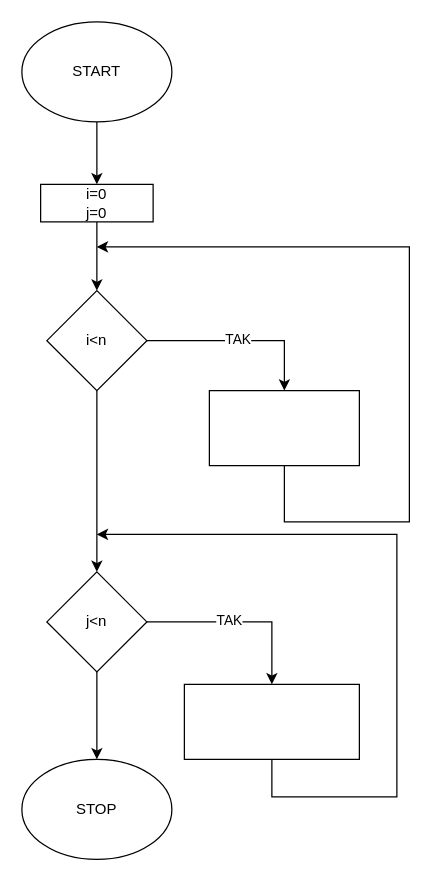
Some shapes in this 441 by 881 pixel diagram are drawn without their labels. Here are the shapes that lost their labels. From the top down, the centre of each, then its label:
point 283,427: zapis<<tab[i]; zapis<<" ";
point 271,721: zapis<<tab_przedsort[j]<<" "
